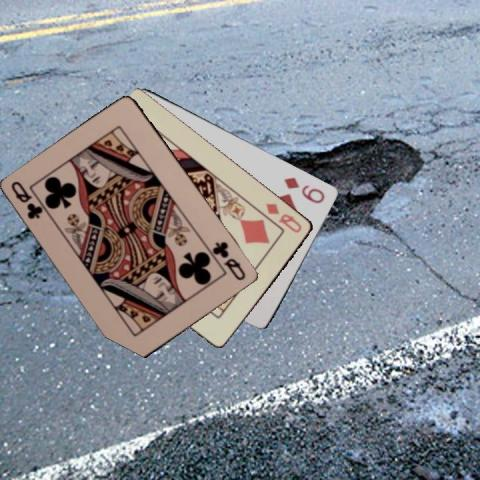9d: (280, 174, 327, 205)
Qc: (210, 239, 247, 282), (8, 178, 45, 221)
Qd: (263, 200, 304, 235)
